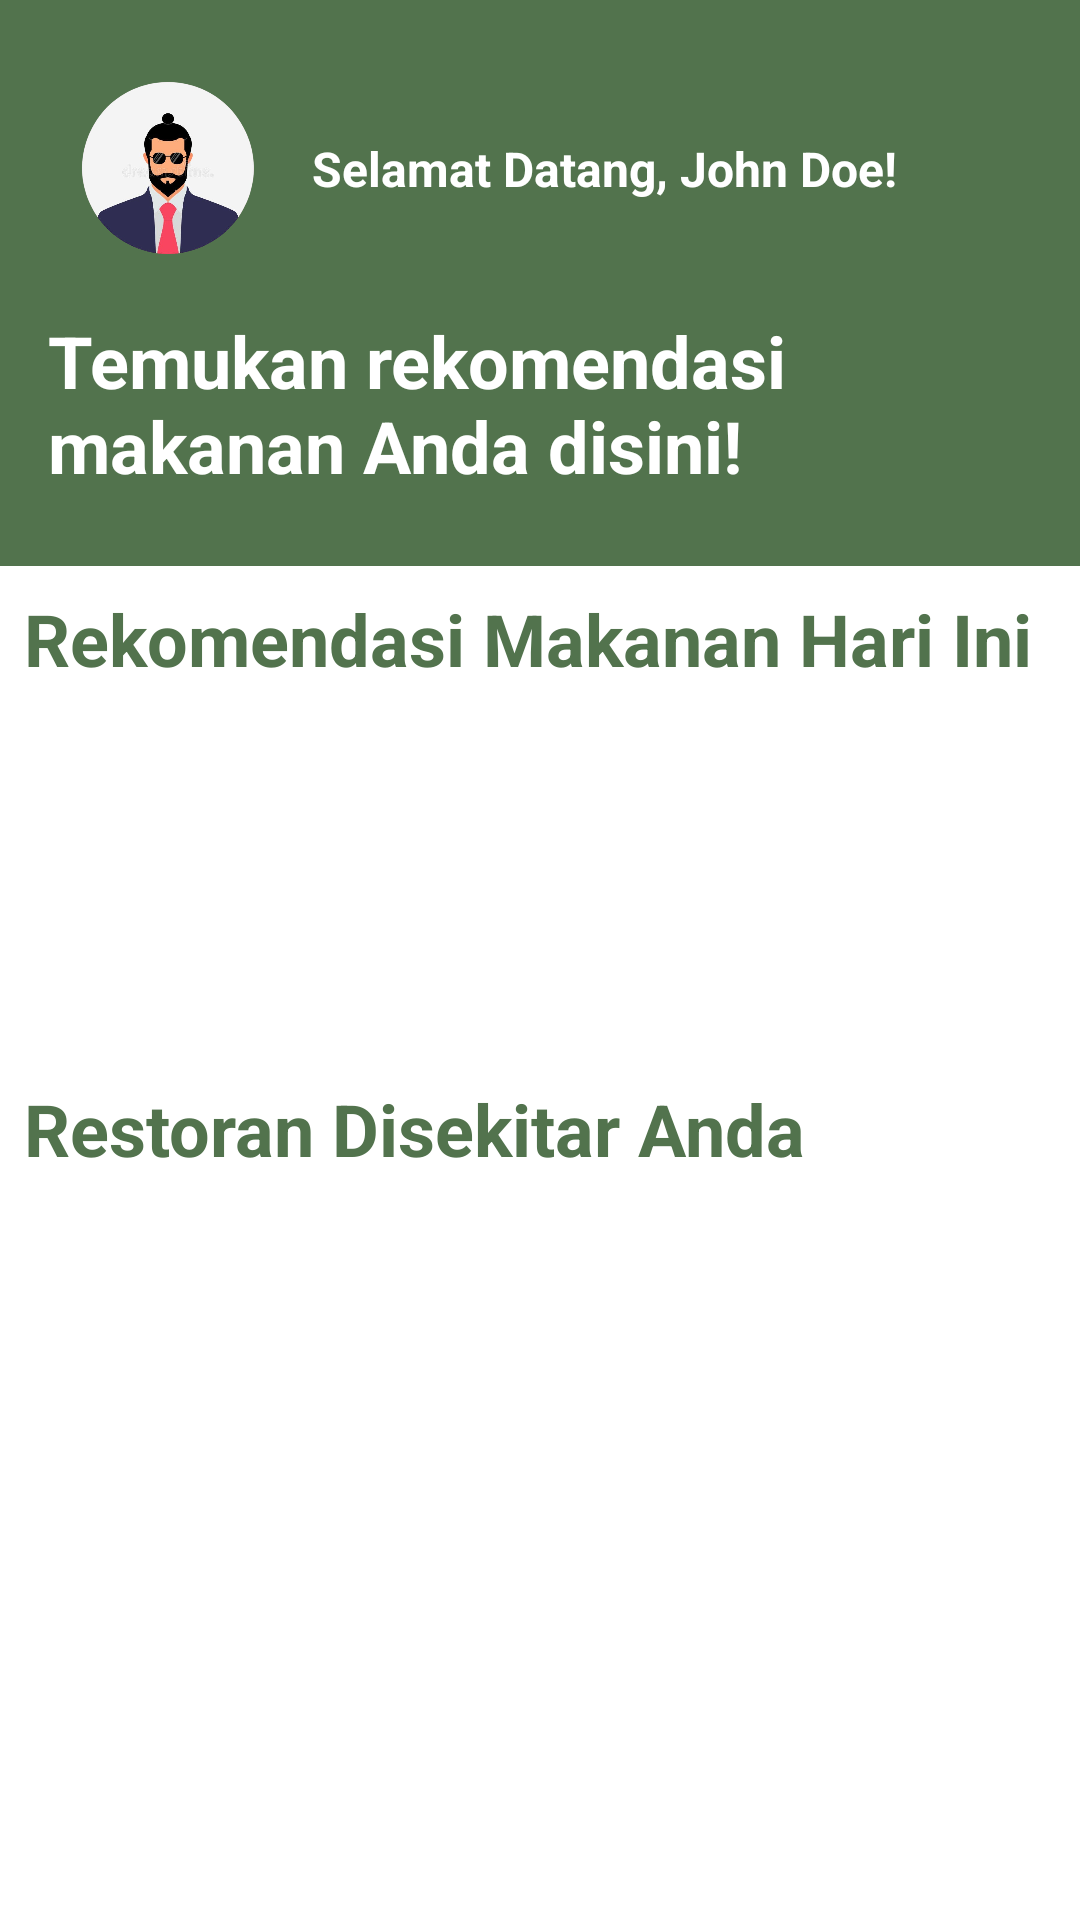

Where icons sit on this 1080x1920 app screen, as region(x1, y1, x2, y2):
myphoto: region(82, 82, 254, 254)
